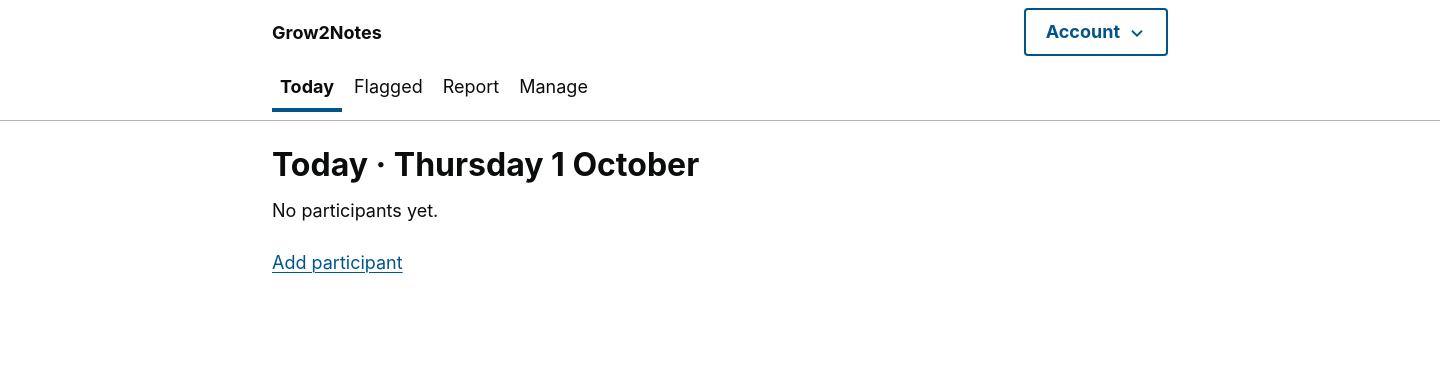
Test case: the Account button and panel › toggles its panel, straight after Account's row, for a Manager
Click the button "Account" at (1096,32), box [1024,8,1168,56]
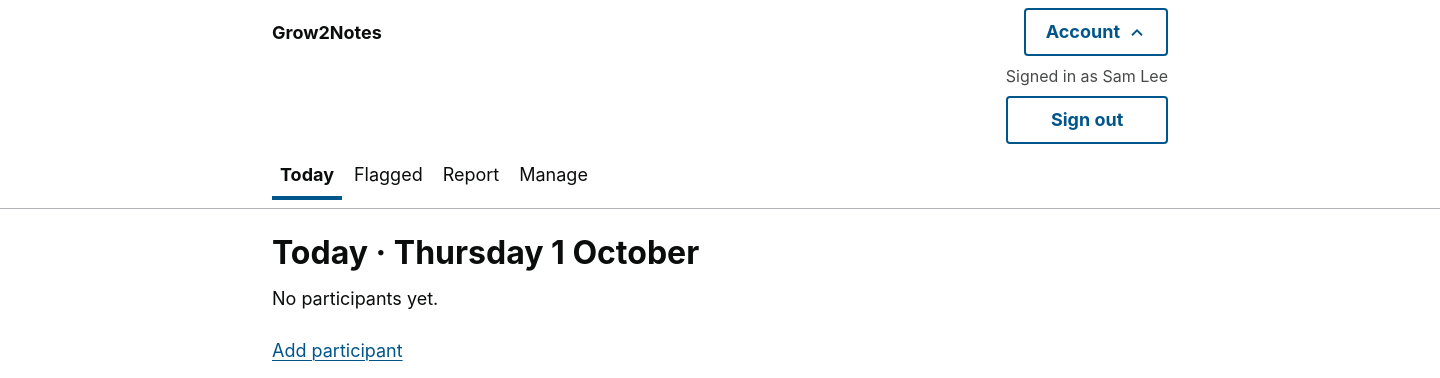
Result: the button "Account" is expanded
Result: the element with id "account-panel" is shown at [1006,66,1168,144]
Click the button "Account" at (1096,32), box [1024,8,1168,56]
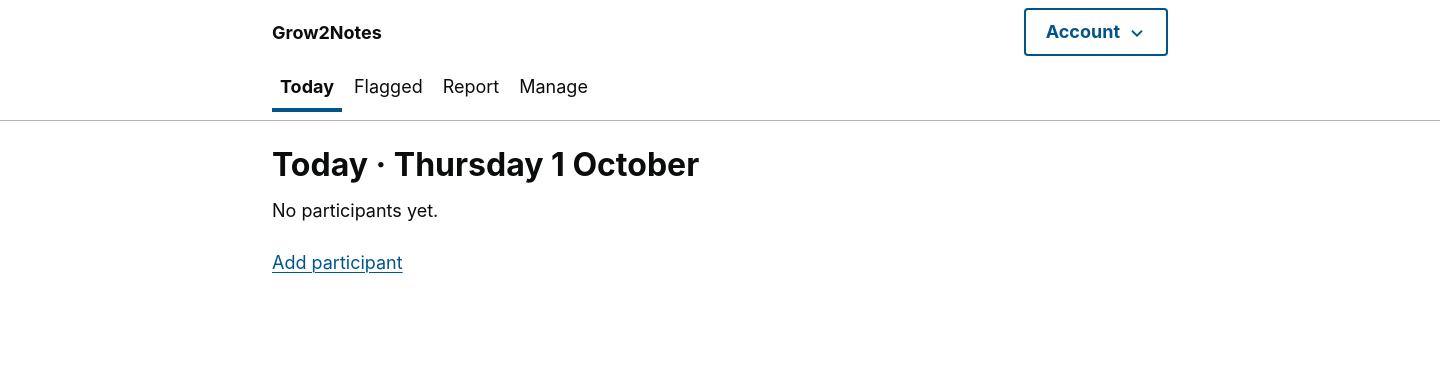
Result: the button "Account" is collapsed at [1024,8,1168,56]
